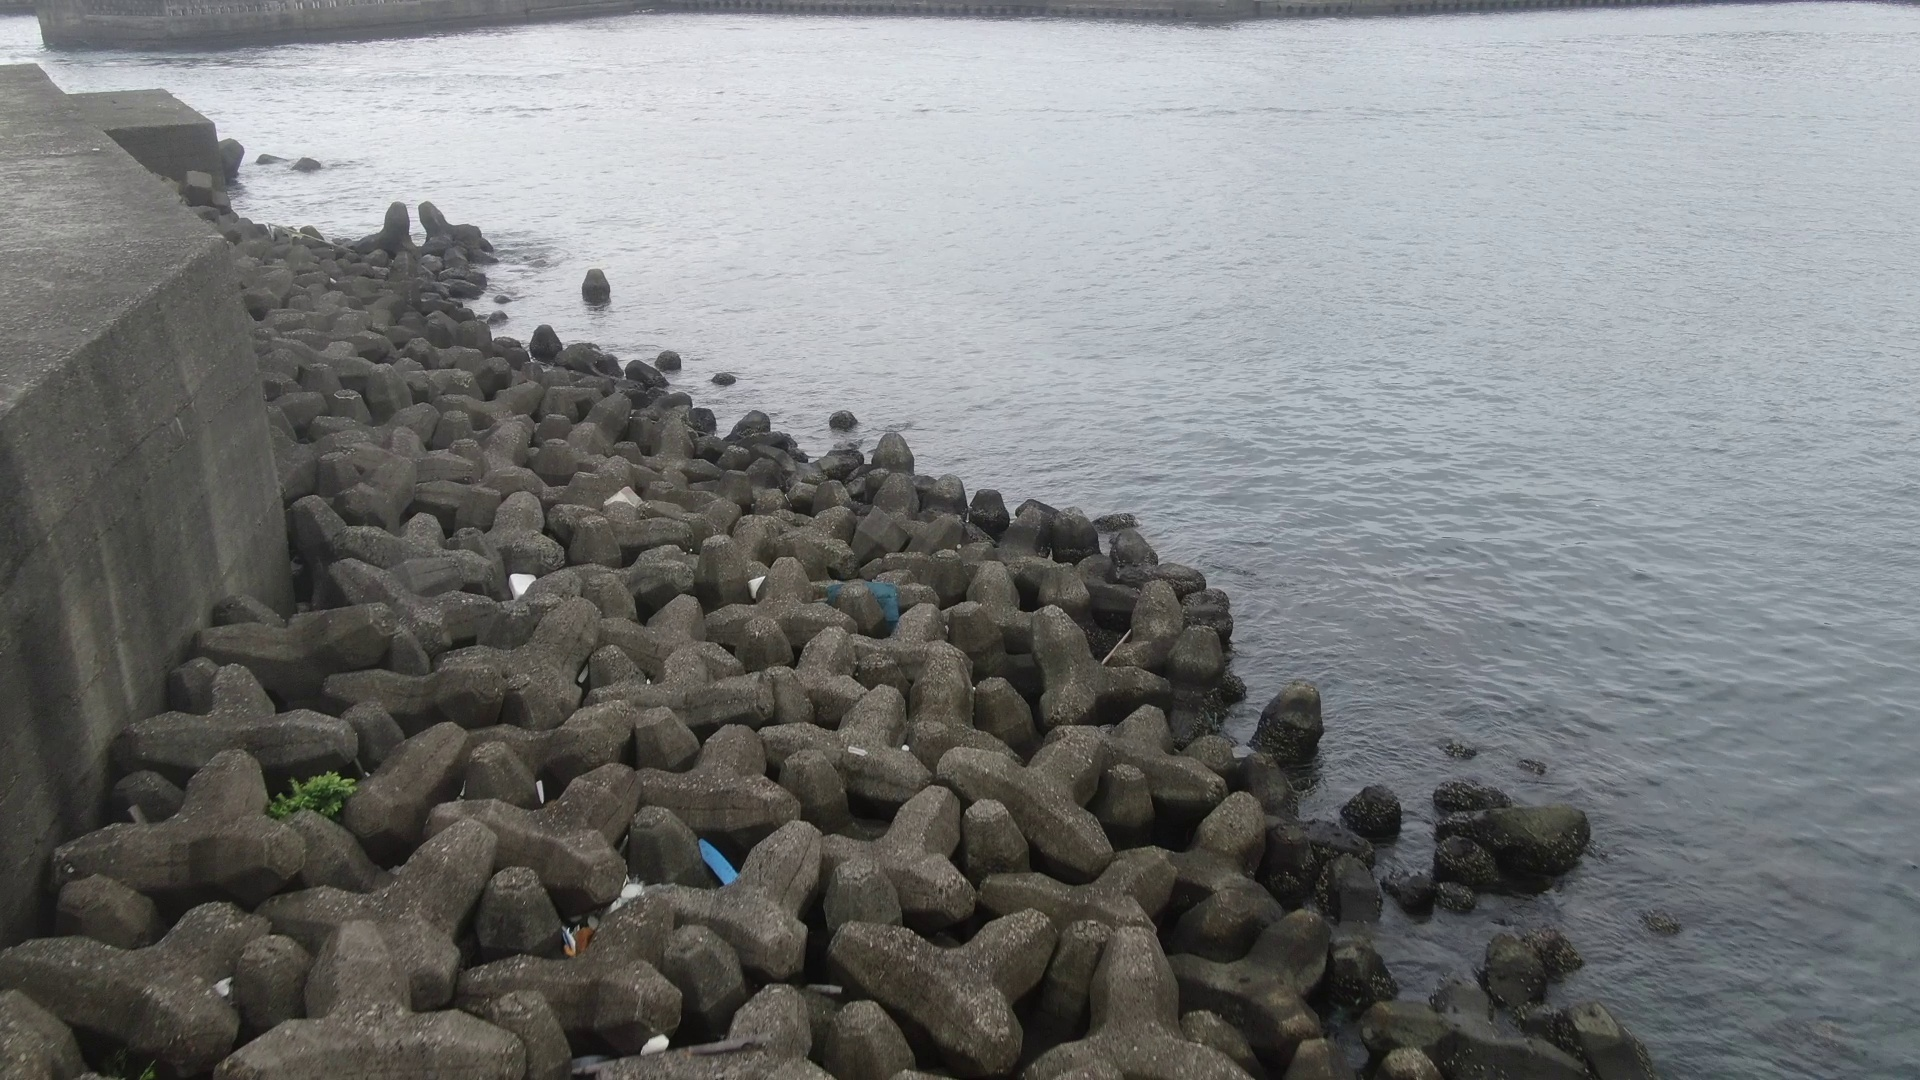garbage: (827, 574, 907, 618), (691, 835, 742, 897), (556, 905, 607, 960), (597, 487, 661, 518), (504, 564, 545, 599)
